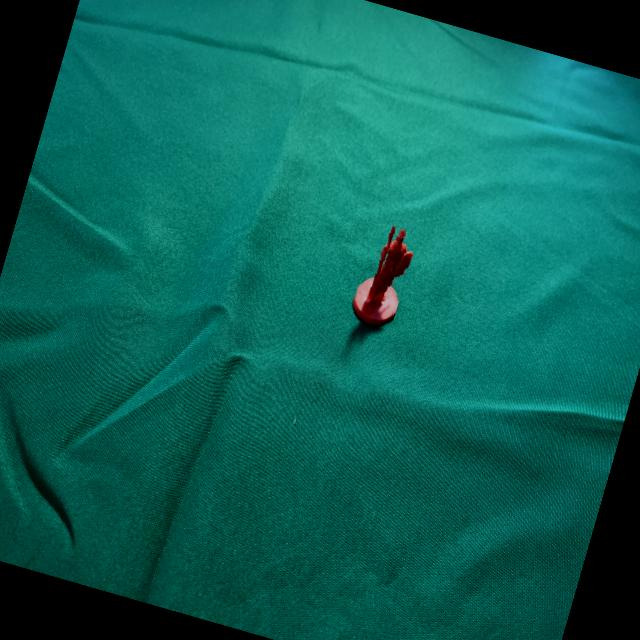amon_follower: (352, 225, 412, 326)
